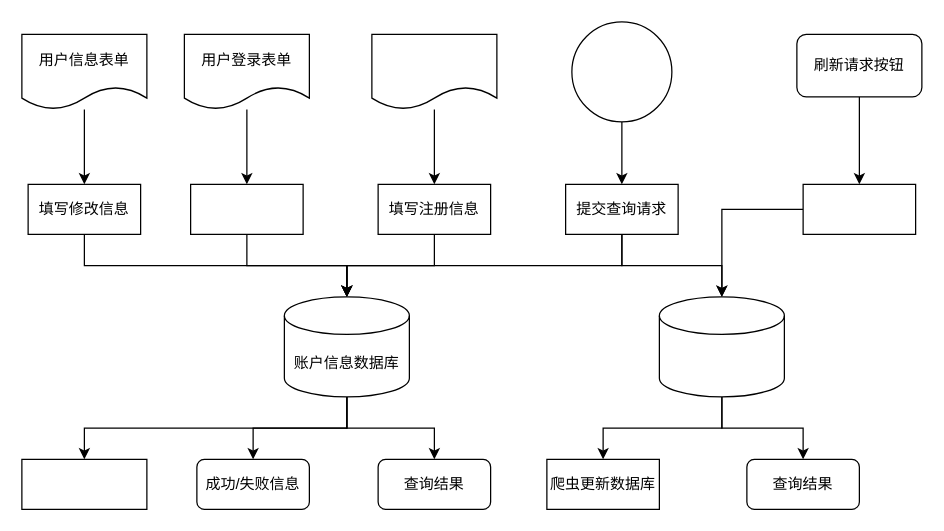
The diagram is 944 pixels wide and 531 high, and some of its shapes have lost their labels. The shapes that lost their labels are listed below. From the top down, each one's centre as x and y in pixels, then its label:
At (434,71): "用户注册表单".
At (621,71): "管理员账户".
At (246,208): "填写登录信息".
At (859,208): "点击".
At (721,346): "课程信息数据库".
At (84,483): "更新/维护数据库".
